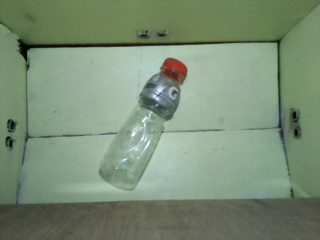bottle: (94, 57, 188, 189)
